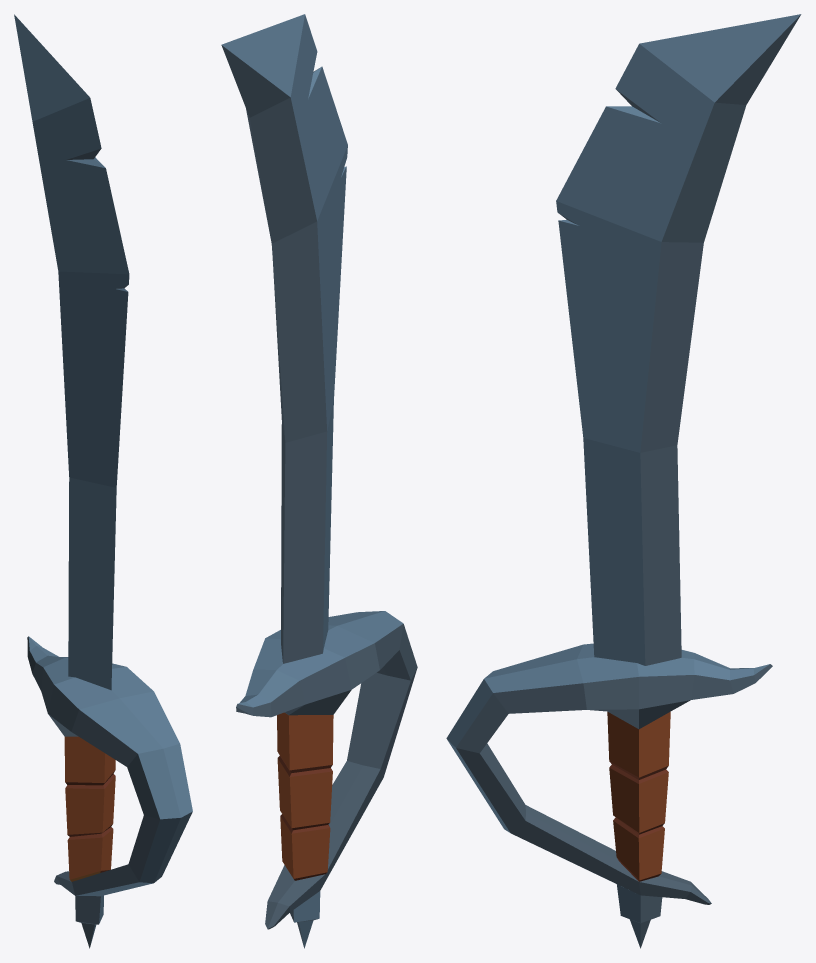
Rendered from SM_Scimitar_A.fbx.
3 renders of one model, left to right at view 1: azimuth 30°, elevation 25°; view 2: azimuth 150°, elevation 25°; view 3: azimuth 270°, elevation 25°, orthographic. The views are drawn at different scales.
Visible parts, largest first — view 1: SM_Scimitar_A; view 2: SM_Scimitar_A; view 3: SM_Scimitar_A.
Part boxes in pixels (x1,y1,x2,y2): SM_Scimitar_A: (14, 14, 192, 948); SM_Scimitar_A: (221, 14, 417, 948); SM_Scimitar_A: (446, 14, 801, 948).
Bounding box in the file's own units: 0.1621 × 1.56 × 0.5374.
